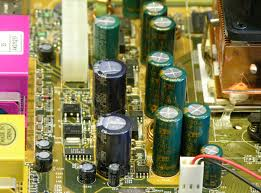capacitor: (90, 56, 131, 117), (94, 112, 135, 165), (154, 104, 181, 179), (147, 49, 173, 112), (182, 100, 211, 155), (93, 11, 121, 63), (161, 65, 187, 111), (150, 16, 177, 53)
